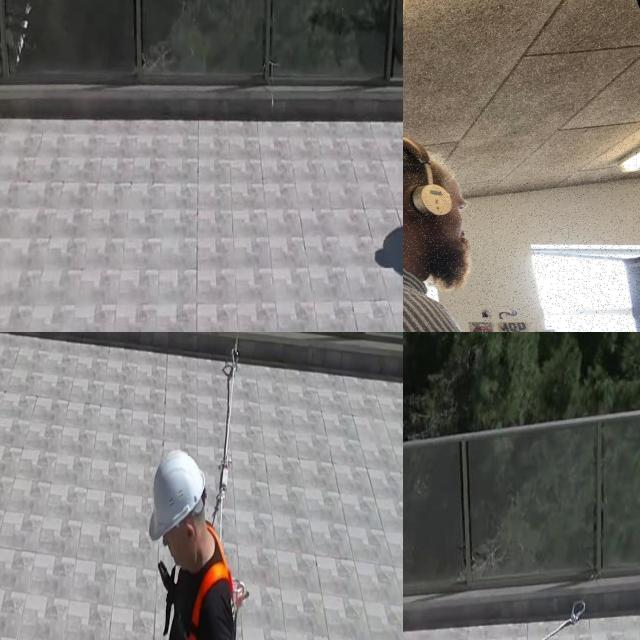Ear-protection: (403, 121, 496, 308)
Harness: (213, 340, 239, 536), (187, 562, 234, 640), (234, 581, 251, 610)
